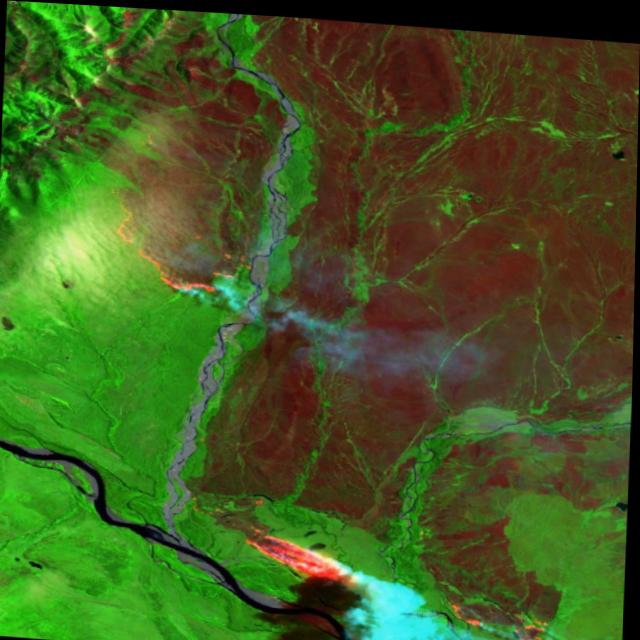fire: (102, 189, 256, 305), (239, 507, 385, 601), (443, 584, 583, 640)
